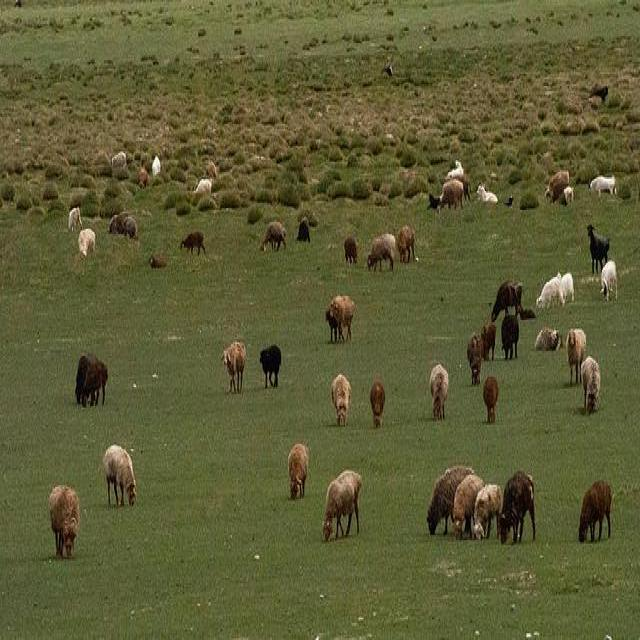Sheep: (67, 79, 620, 547), (500, 470, 536, 545)
